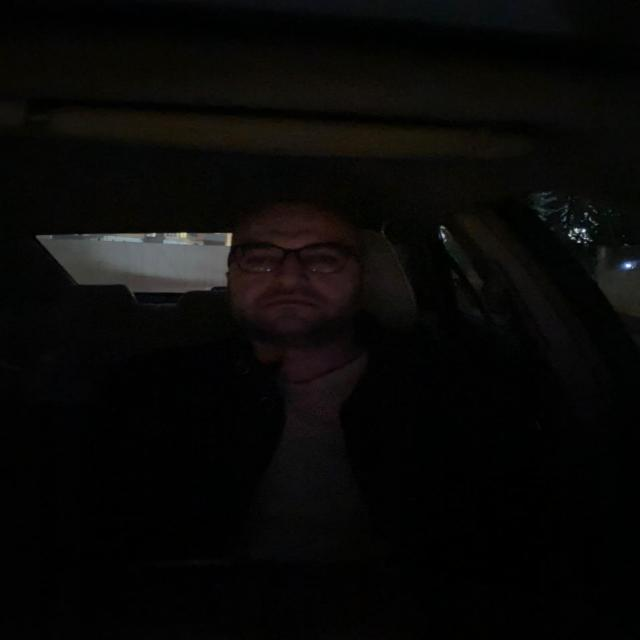person: (218, 196, 375, 346)
